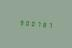eight: (42, 20, 47, 28)
nine: (17, 18, 22, 26)
seven: (36, 20, 41, 28), (48, 21, 53, 29)
zero: (23, 18, 28, 27), (30, 19, 35, 27)
